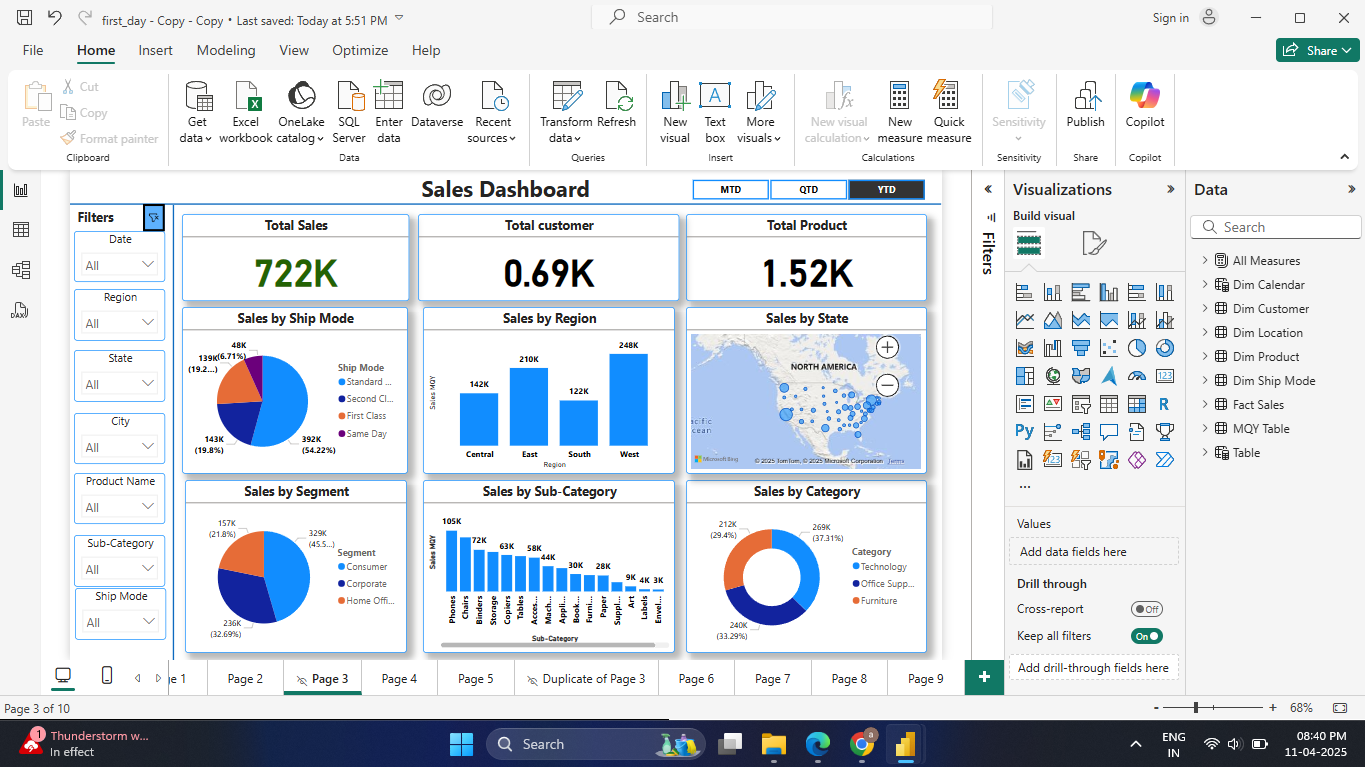

The page's visual inventory and layout, read from the dashboard file:
{"tool":"powerbi","page":{"name":"Page 3","canvas":[1280,720],"ordinal":2},"visuals":[{"type":"shape","box":[0,44.8,1280,12],"z":0},{"type":"textbox","box":[481.9,0,316.2,57.8],"z":1000},{"type":"shape","box":[144,51.4,16.2,668.6],"z":2000},{"type":"textbox","box":[6,50.8,91.1,38.8],"z":3000},{"type":"slicer","title":"Date","fields":{"Values":["Dim Calendar.Year","Dim Calendar.Quarter"]},"box":[6.2,89,134.4,74.7],"z":4000},{"type":"card","title":"Total Sales","fields":{"Values":["All Measures.Sales MQY"]},"box":[164.6,64.7,333.6,127.8],"z":5000},{"type":"slicer","title":"Region","fields":{"Values":["Dim Location.Region"]},"box":[6.2,174.2,134.4,76.5],"z":6000},{"type":"card","title":"Total customer","fields":{"Values":["All Measures.Customer MQY"]},"box":[512,64,384,128],"z":7000},{"type":"slicer","title":"State","fields":{"Values":["Dim Location.State"]},"box":[6.2,264.6,134.4,76.5],"z":8000},{"type":"card","title":"Total Product","fields":{"Values":["All Measures.Product MQY"]},"box":[905.1,64,353.5,128],"z":9000},{"type":"slicer","title":"Product Name","fields":{"Values":["Dim Product.Product Name"]},"box":[6.2,445.3,134.4,74.7],"z":10000},{"type":"pieChart","title":"Sales by Ship Mode","fields":{"Category":["Dim Ship Mode.Ship Mode"],"Y":["All Measures.Sales MQY"]},"box":[164.6,201.3,332.1,245.4],"z":11000},{"type":"slicer","title":"City","fields":{"Values":["Dim Location.City"]},"box":[6.2,356.7,134.4,74.7],"z":12000},{"type":"clusteredColumnChart","title":"Sales by Region","fields":{"Category":["Dim Location.Region","Dim Location.Country","Dim Location.State","Dim Location.City"],"Y":["All Measures.Sales MQY"]},"box":[518.3,201.7,370.5,245],"z":13000},{"type":"slicer","title":"Ship Mode","fields":{"Values":["Dim Ship Mode.Ship Mode"]},"box":[7.7,614.8,134.4,76.2],"z":14000},{"type":"pieChart","title":"Sales by Segment","fields":{"Category":["Dim Customer.Segment"],"Y":["All Measures.Sales MQY"]},"box":[169,455.5,326.2,254.2],"z":15000},{"type":"slicer","title":"Sub-Category","fields":{"Values":["Dim Product.Sub-Category"]},"box":[6.2,535.7,134.4,76.5],"z":16000},{"type":"donutChart","title":"Sales by Category","fields":{"Category":["Dim Product.Category"],"Y":["All Measures.Sales MQY"]},"box":[905.2,455.6,354,253.9],"z":17000},{"type":"clusteredColumnChart","title":"Sales by Sub-Category","fields":{"Y":["All Measures.Sales MQY"],"Category":["Dim Product.Sub-Category"]},"box":[518.3,455.6,370.5,253.9],"z":18000},{"type":"map","title":"Sales by State","fields":{"Category":["Dim Location.State"],"Size":["All Measures.Sales MQY"]},"box":[905.2,201.7,354,245],"z":19000},{"type":"slicer","fields":{"Values":["MQY Table.Column1"]},"box":[888.8,7.5,391.4,40.3],"z":20000},{"type":"image","box":[107.3,50,32.3,39.7],"z":21000}]}

Visuals, with their boxes on the page's 1280x720 design canvas (x1, y1, x2, y2). These are canvas units, not pixel positions in the 1365x767 screenshot, which may show the page scaled, cropped or inside an application window:
shape: <region>0, 45, 1280, 57</region>
textbox: <region>482, 0, 798, 58</region>
shape: <region>144, 51, 160, 720</region>
textbox: <region>6, 51, 97, 90</region>
"Date" slicer: <region>6, 89, 141, 164</region>
"Total Sales" card: <region>165, 65, 498, 192</region>
"Region" slicer: <region>6, 174, 141, 251</region>
"Total customer" card: <region>512, 64, 896, 192</region>
"State" slicer: <region>6, 265, 141, 341</region>
"Total Product" card: <region>905, 64, 1259, 192</region>
"Product Name" slicer: <region>6, 445, 141, 520</region>
"Sales by Ship Mode" pieChart: <region>165, 201, 497, 447</region>
"City" slicer: <region>6, 357, 141, 431</region>
"Sales by Region" clusteredColumnChart: <region>518, 202, 889, 447</region>
"Ship Mode" slicer: <region>8, 615, 142, 691</region>
"Sales by Segment" pieChart: <region>169, 456, 495, 710</region>
"Sub-Category" slicer: <region>6, 536, 141, 612</region>
"Sales by Category" donutChart: <region>905, 456, 1259, 710</region>
"Sales by Sub-Category" clusteredColumnChart: <region>518, 456, 889, 710</region>
"Sales by State" map: <region>905, 202, 1259, 447</region>
slicer - MQY Table.Column1: <region>889, 8, 1280, 48</region>
image: <region>107, 50, 140, 90</region>
